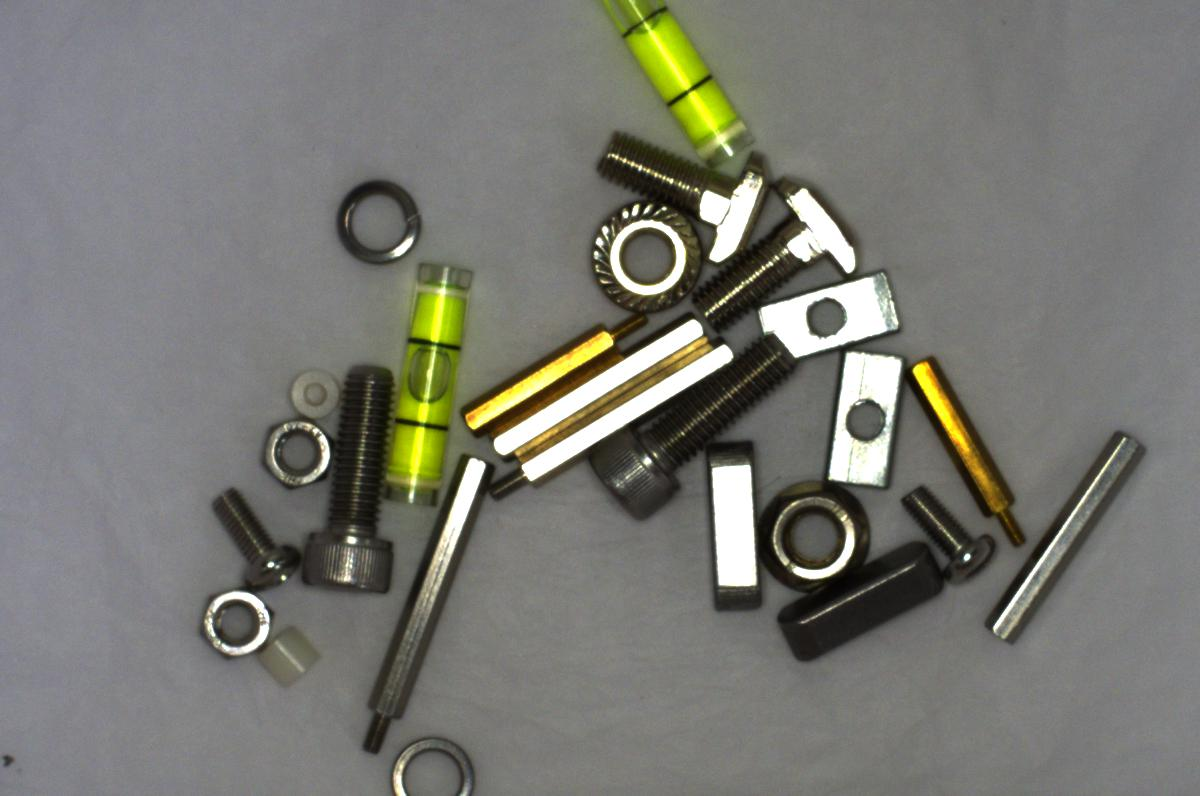Double hexagonal column: (967, 412, 1153, 656), (482, 303, 711, 468)
Flange nut: (747, 467, 879, 592), (579, 192, 701, 314)
Hexagon nut: (193, 586, 275, 668), (260, 410, 329, 487)
Hexagon pillar: (907, 350, 1028, 549), (456, 309, 646, 423)
Hexagon screw: (584, 342, 805, 524), (288, 358, 419, 599)
Hexagonal steel column: (371, 450, 485, 751)
Horizontal bubble: (600, 1, 771, 169), (375, 254, 469, 509)
Keybar: (767, 558, 962, 663), (692, 419, 758, 612)
Plastic cushion pillar: (256, 627, 324, 690), (280, 359, 342, 421)
Rectangular nut: (758, 259, 902, 356), (829, 353, 903, 494)
Round head screw: (893, 483, 1007, 580), (206, 477, 297, 590)
Spring washer: (329, 165, 434, 267), (378, 730, 474, 795)
T-shaped screw: (683, 163, 873, 331), (585, 122, 764, 264)
